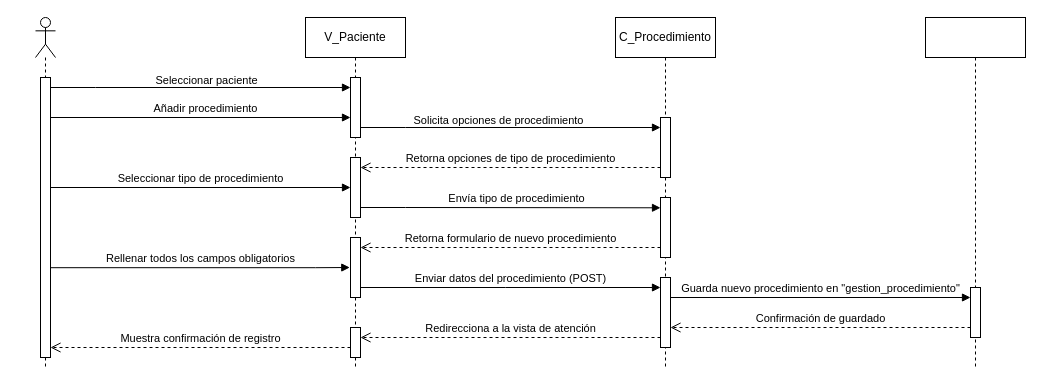
Image size: 1043x385. Some labels were removed from this diagram. Each missing label, with the box of its shape:
BD_Gestion: (924, 16, 1026, 368)
Veterinario: (34, 16, 56, 368)
